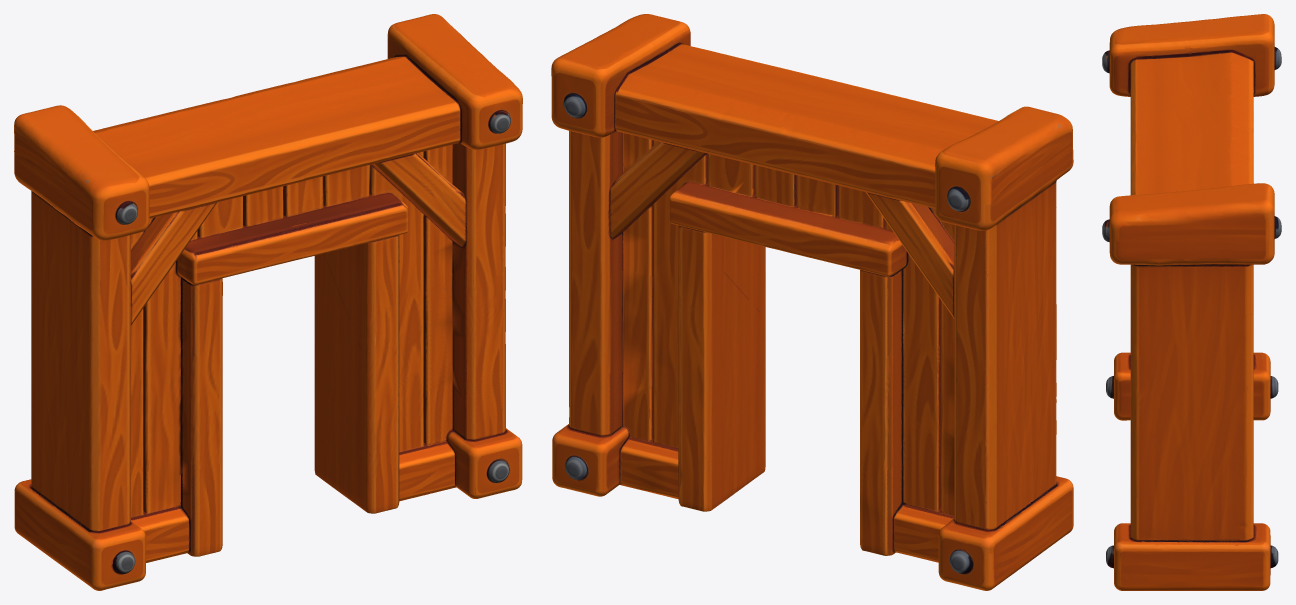
File: doorway.glb
The picture shows the model from 3 angles, left to right: view 1: azimuth 30°, elevation 25°; view 2: azimuth 150°, elevation 25°; view 3: azimuth 270°, elevation 25°; orthographic projection. The views are drawn at different scales.
Size of the model in its own units: 1.9 by 1.77 by 0.7402.
1 material, 1 textured.
